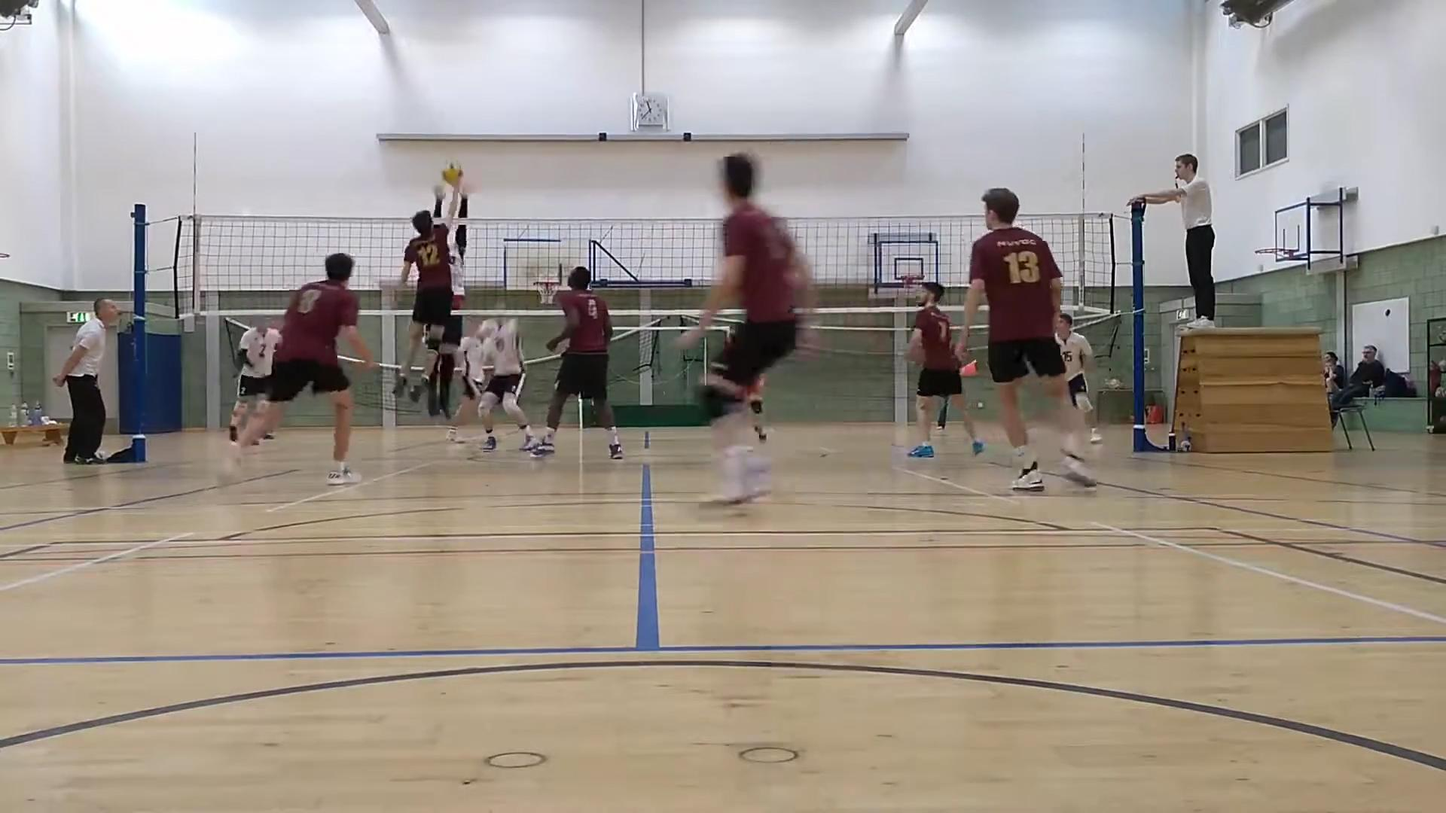attacco: (390, 170, 466, 395)
muro: (427, 176, 473, 421)
